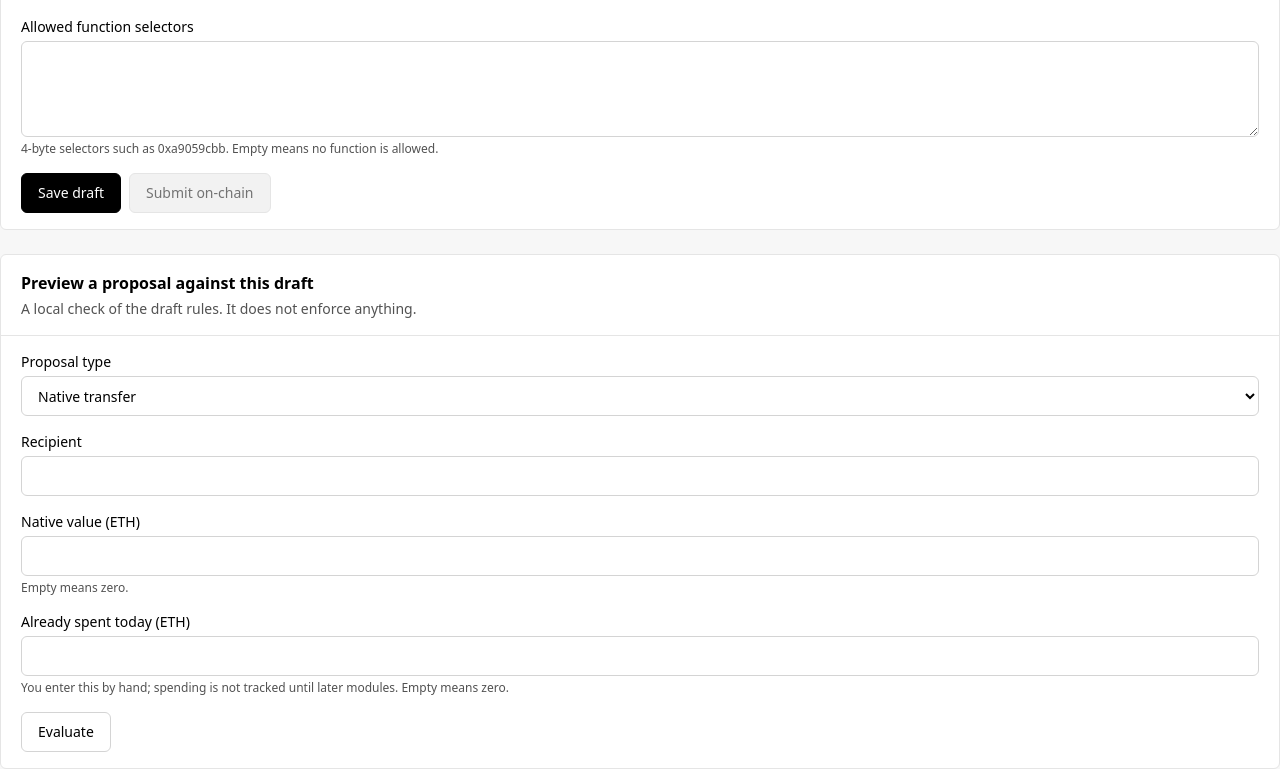
Test: PolicyWorkspace › denies everything for a paused agent in the preview
(page scrolled)
In the field labelled "Recipient": (640, 476) [21,456,1259,496], type "0x00000000000000000000000000000000000000A1"
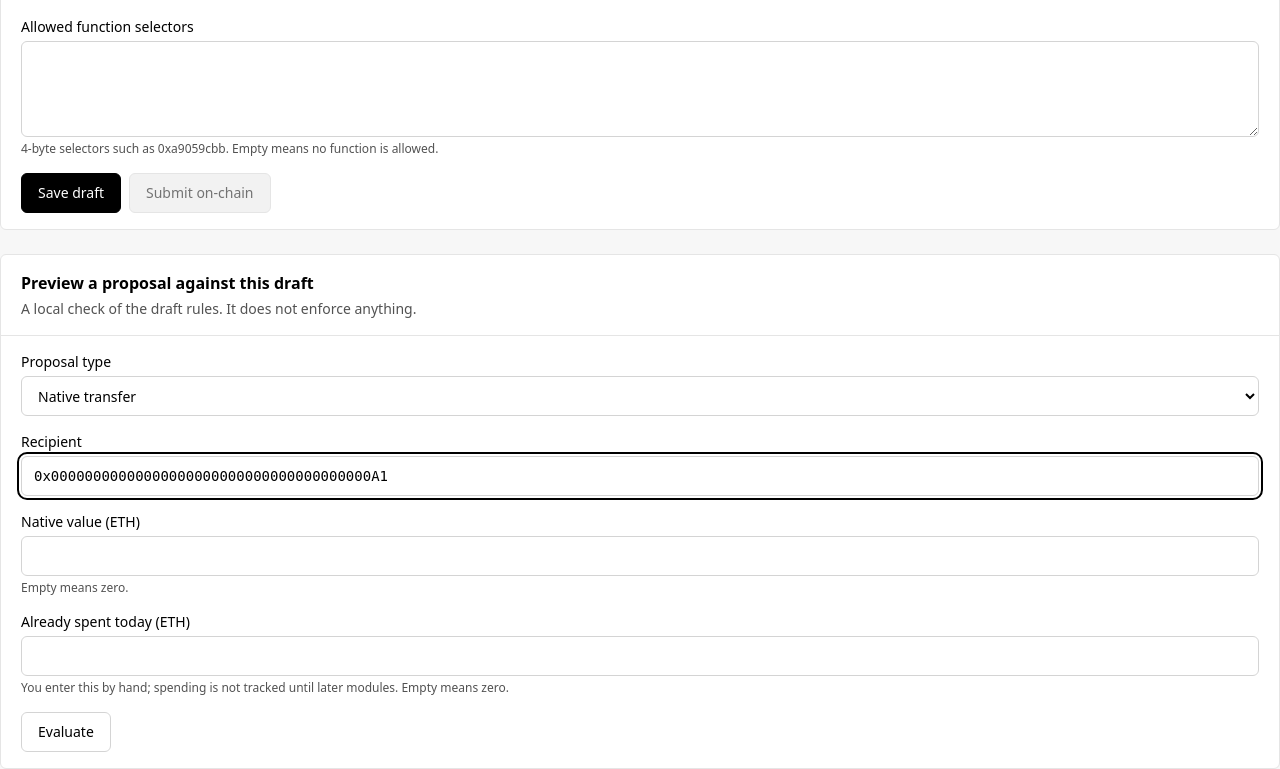
Click the button "Evaluate": (66, 732) [21,712,111,752]
(page scrolled)
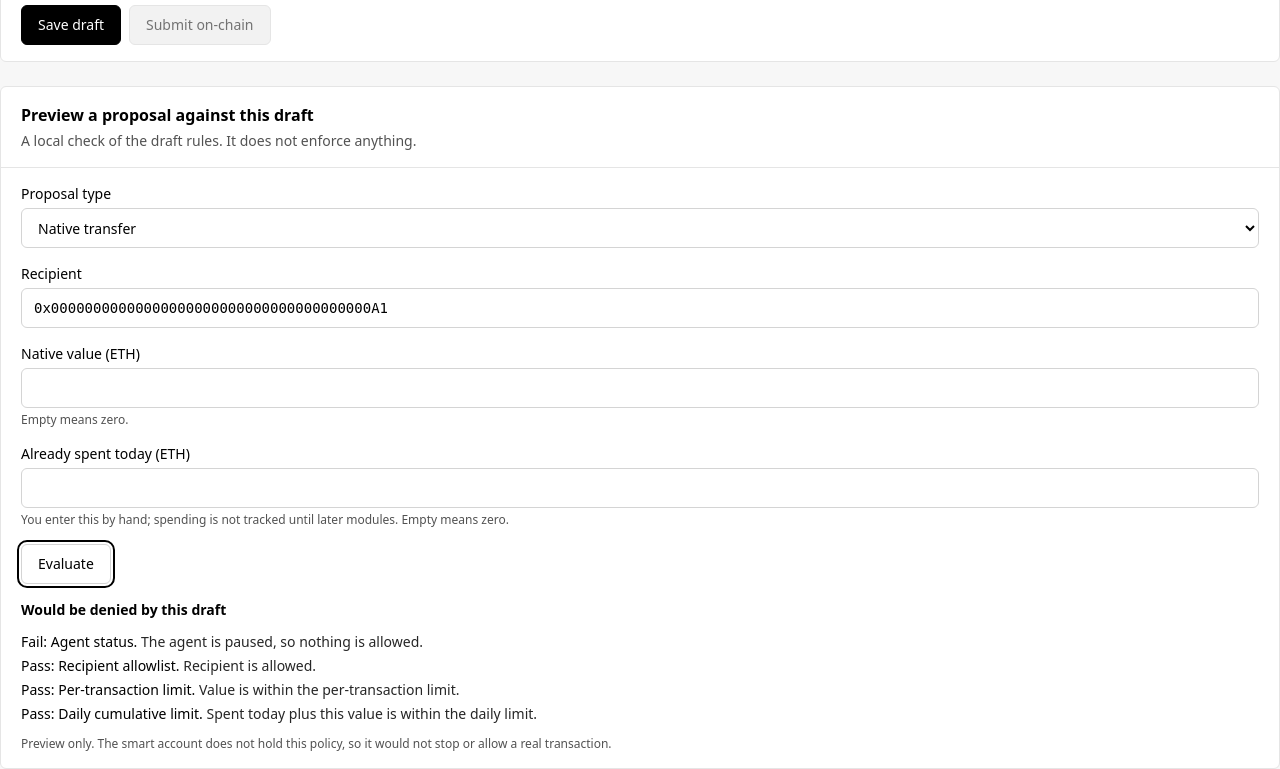
Expected: the text "Would be denied by this draft" is shown, [21,600,226,619]
Expected: the text "Fail: Agent status." is shown, [21,632,137,651]
